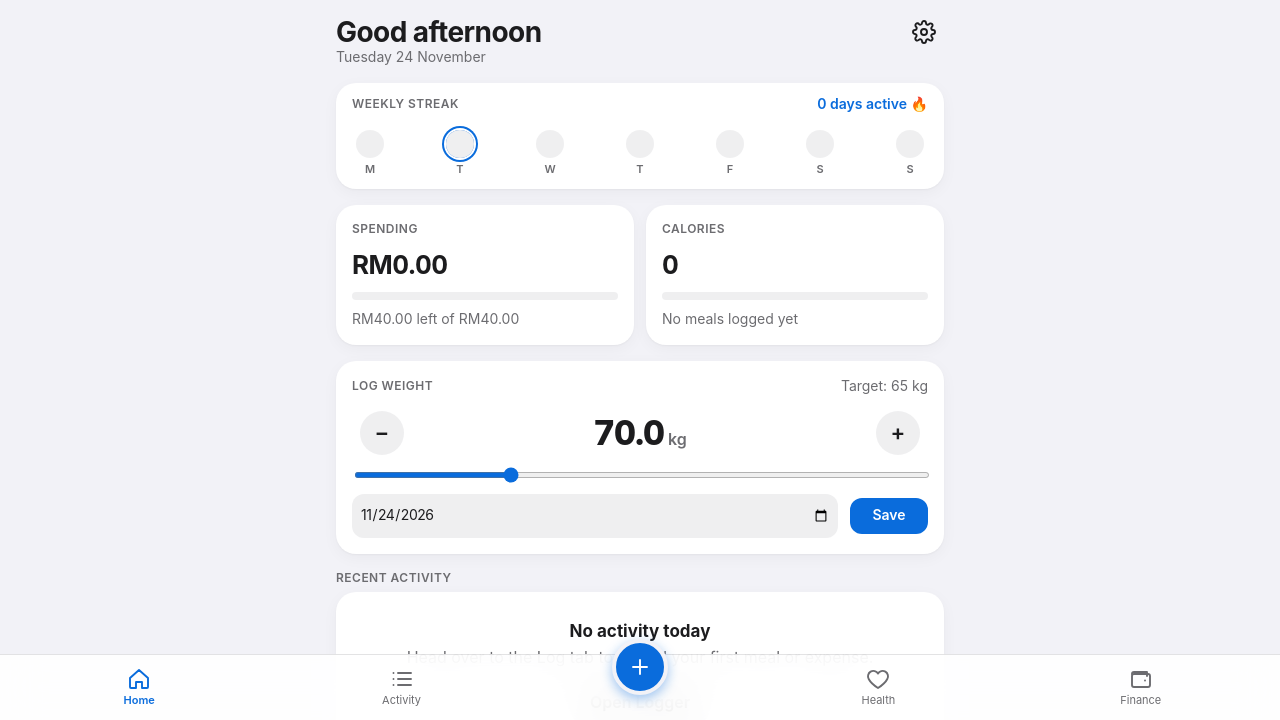
it: full log flow with the new timing › Save: sheet slides out (inert, then gone), badge shows, Home arrives well before the old 1.4s, nothing is lost
Later steps or results of the test are not shown.
Click the button with class "tab-log". click: (640, 674)
box: x1=612 y1=633 x2=668 y2=714
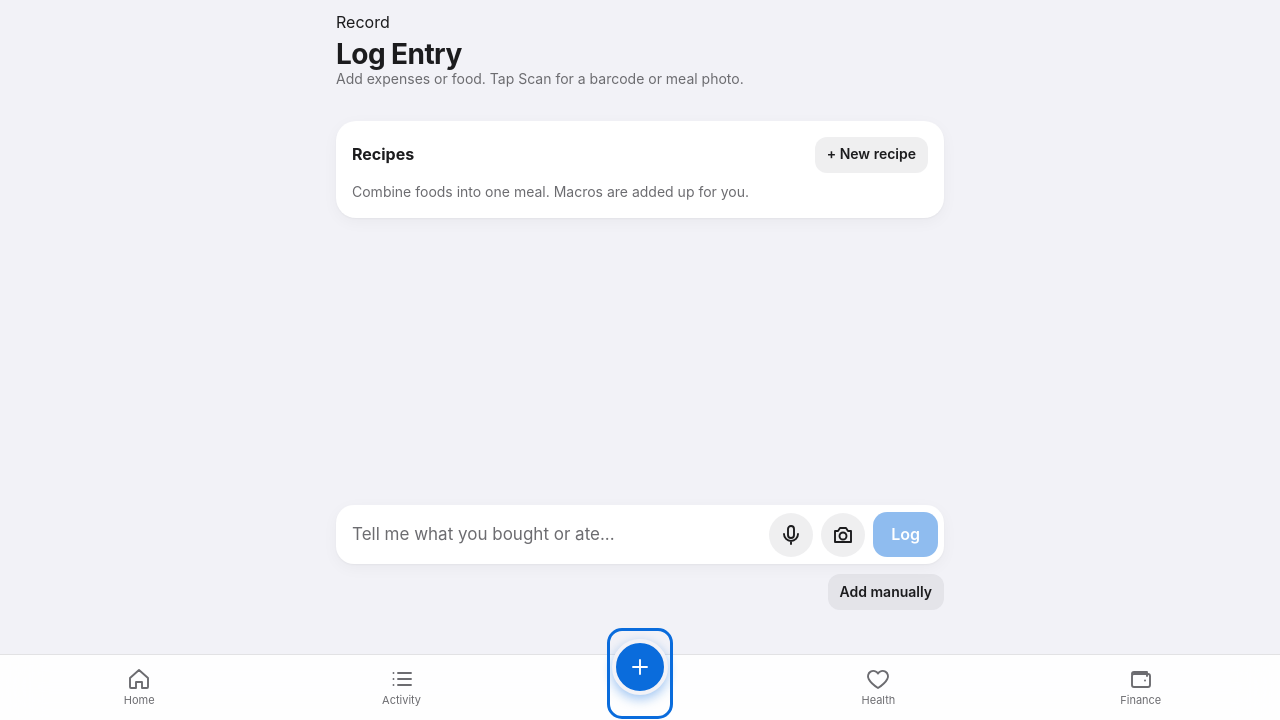
Type "Petrol RM50" into the field named "Quick log". click: (557, 535)
box: x1=352 y1=511 x2=761 y2=558
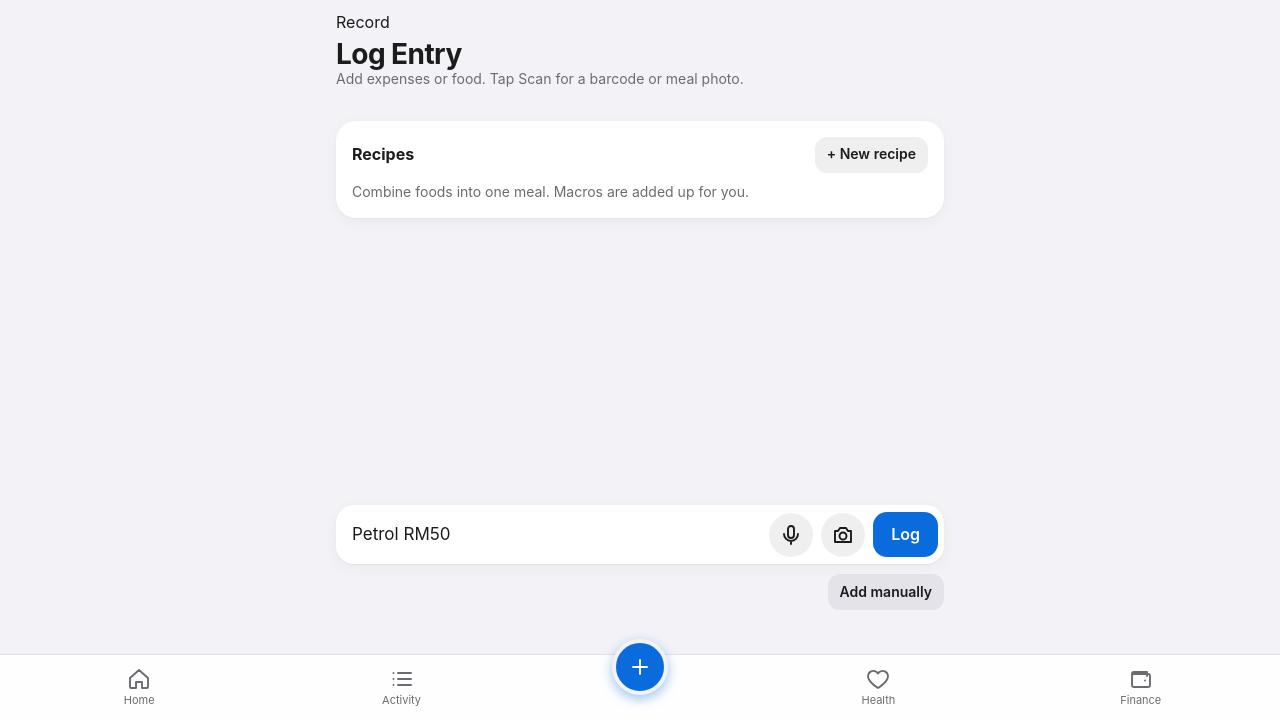
Click the button "Log". click: (906, 534)
box: x1=873 y1=512 x2=938 y2=557
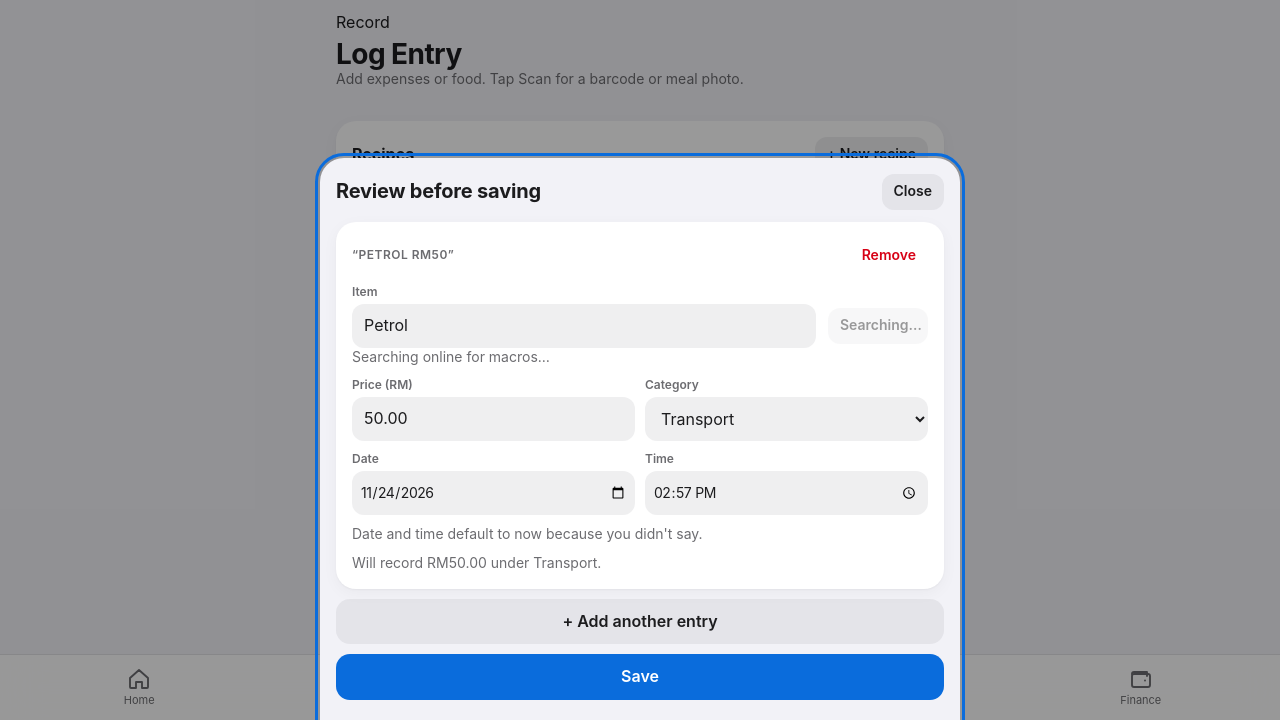
Click the button "Save". click: (640, 677)
box: x1=336 y1=654 x2=944 y2=700
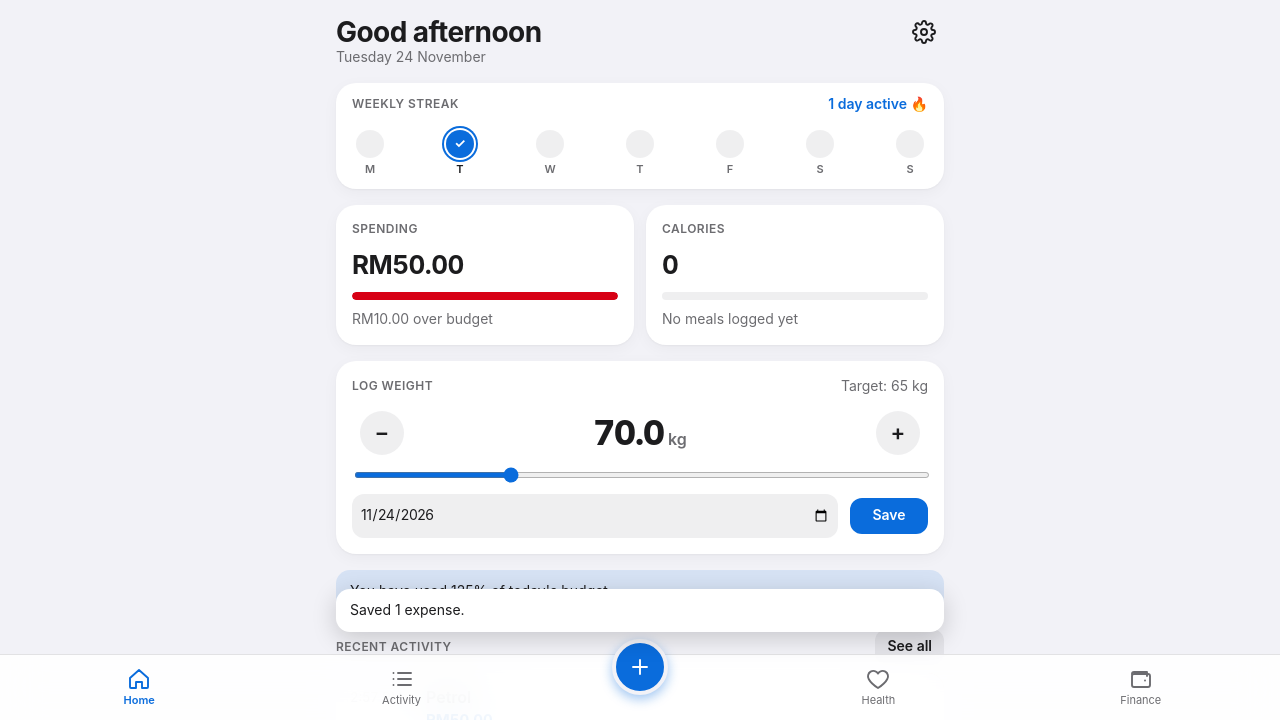
Expected: the button with class "tab" reads "Home", x1=79 y1=661 x2=199 y2=714
Result: the message shows "Saved 1 expense" at x1=350 y1=601 x2=465 y2=618
Result: the element with class "backdrop" is gone
